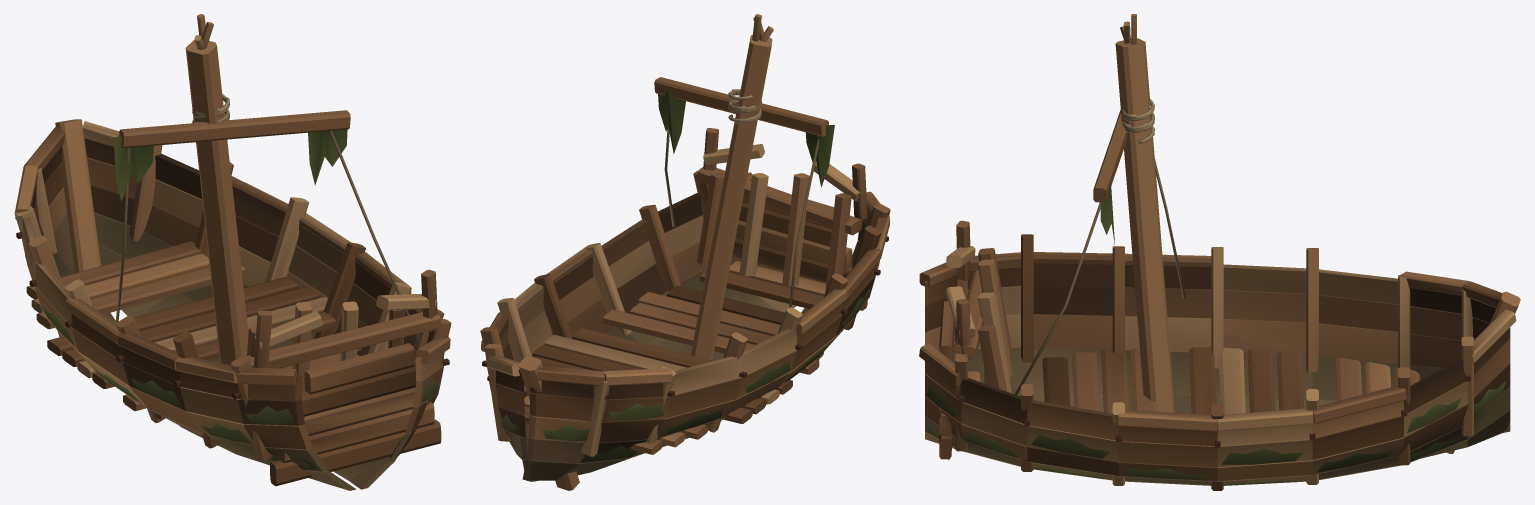
File: building-wreck.glb
3 renders of one model, left to right at view 1: azimuth 30°, elevation 25°; view 2: azimuth 150°, elevation 25°; view 3: azimuth 270°, elevation 25°, orthographic. The views are drawn at different scales.
Visible parts, largest first — view 1: 0_wreck; view 2: 0_wreck; view 3: 0_wreck.
Part boxes in pixels (x1,y1,x2,y2): 0_wreck: (14,14,451,490); 0_wreck: (480,14,890,490); 0_wreck: (919,14,1520,490).
Size of the model in its own units: 4.51 by 6.25 by 8.07.
